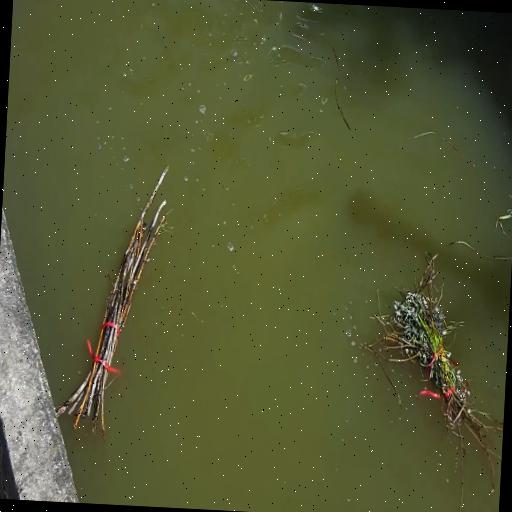twig: (47, 163, 175, 442), (379, 275, 491, 434)
